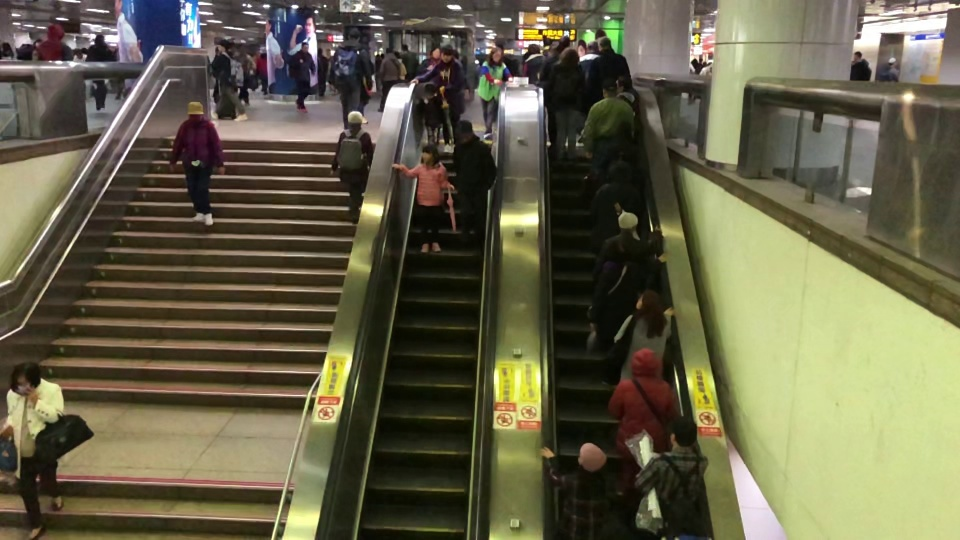person_head: (628, 342, 663, 380), (7, 358, 41, 395), (668, 414, 700, 453), (575, 439, 609, 471), (634, 285, 661, 314), (604, 157, 634, 182), (604, 237, 632, 261), (616, 207, 639, 234), (184, 97, 205, 121), (455, 117, 475, 142), (558, 44, 581, 65), (614, 119, 634, 141), (421, 142, 439, 165), (44, 23, 66, 41), (600, 76, 617, 99), (346, 107, 362, 130), (555, 34, 571, 56), (614, 75, 629, 96), (488, 45, 503, 65), (597, 34, 613, 52), (440, 44, 455, 62), (346, 27, 361, 44), (422, 83, 437, 100), (585, 39, 600, 54), (527, 42, 540, 59), (217, 37, 230, 52), (429, 45, 441, 60), (94, 33, 106, 46), (383, 45, 395, 57), (887, 54, 897, 68), (299, 40, 310, 52), (398, 42, 409, 53), (543, 35, 552, 48), (853, 48, 862, 61)
person_vbox: (607, 345, 684, 496), (0, 359, 65, 533), (629, 413, 709, 540), (585, 240, 673, 353), (536, 436, 617, 540), (169, 100, 226, 227), (390, 144, 450, 255), (612, 289, 677, 391), (587, 157, 650, 255), (451, 119, 496, 250), (409, 44, 466, 146), (590, 210, 664, 287), (325, 26, 374, 133), (329, 109, 374, 225), (582, 79, 634, 178), (586, 119, 646, 189), (547, 47, 584, 158), (538, 35, 572, 153), (583, 35, 632, 114), (475, 44, 512, 139), (209, 37, 249, 121), (288, 40, 317, 114), (85, 33, 112, 112), (415, 82, 444, 148), (34, 20, 75, 62), (378, 46, 401, 114), (578, 39, 601, 85), (521, 42, 545, 79), (398, 41, 420, 81), (416, 45, 443, 75), (850, 48, 872, 81), (876, 53, 900, 83)
